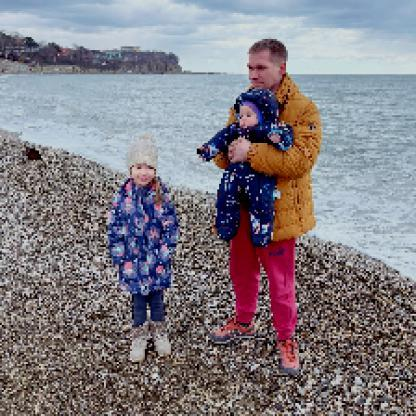child: (108, 135, 181, 365), (196, 91, 295, 247)
